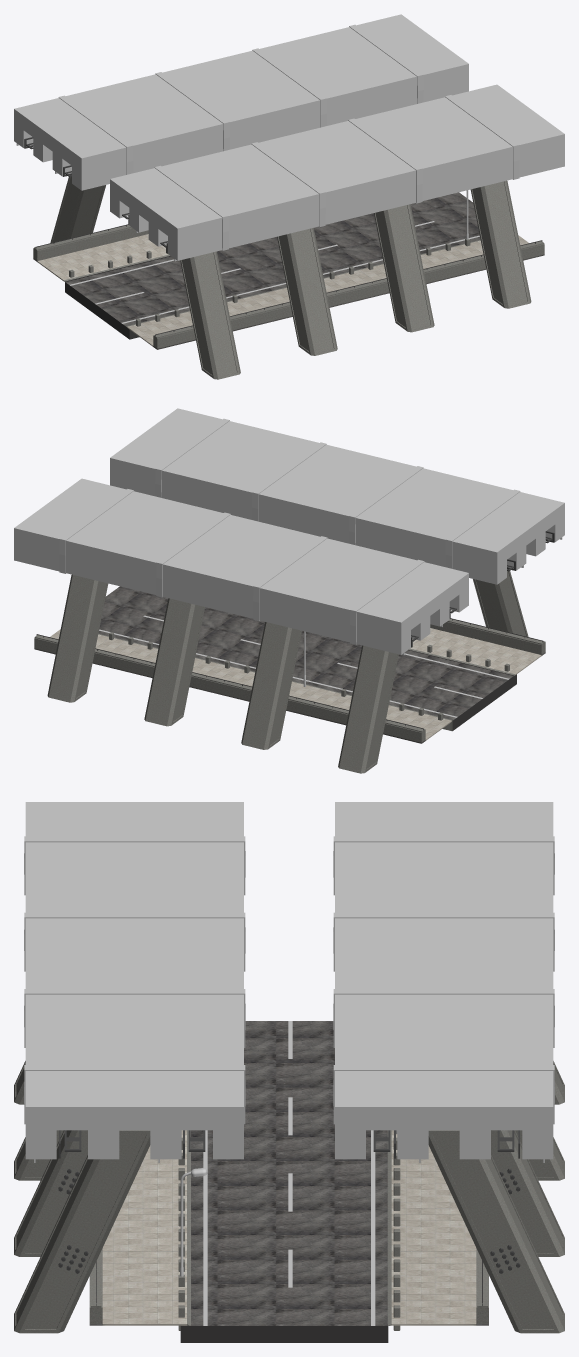
The model's file is Studio_Bypass.obj.
3 renders of one model, top to bottom at view 1: azimuth 30°, elevation 25°; view 2: azimuth 150°, elevation 25°; view 3: azimuth 270°, elevation 25°, orthographic. The views are drawn at different scales.
Visible parts, largest first — view 1: Studio_Bypass; view 2: Studio_Bypass; view 3: Studio_Bypass.
Boxes of the visible parts, bbox=[...] form: Studio_Bypass: bbox=[14, 14, 564, 379]; Studio_Bypass: bbox=[14, 408, 564, 773]; Studio_Bypass: bbox=[14, 802, 564, 1342].
Size of the model in its own units: 56.07 by 22 by 42.77.
Materials: 9 (3 with a texture image).
